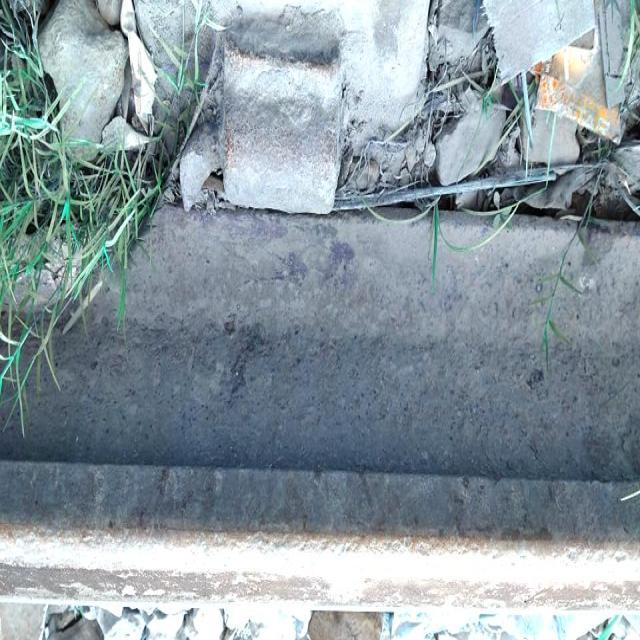Missing Fastener: (200, 15, 361, 239)
